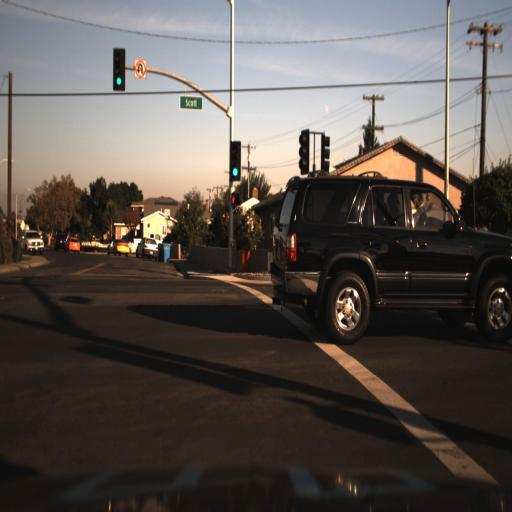car: (270, 174, 512, 347), (18, 225, 44, 256), (134, 236, 162, 264), (104, 236, 130, 261), (108, 236, 130, 261), (136, 238, 160, 259), (53, 230, 70, 256), (68, 236, 84, 258), (65, 234, 82, 254)
trafficLight-Green: (110, 44, 126, 92), (227, 138, 241, 182)
